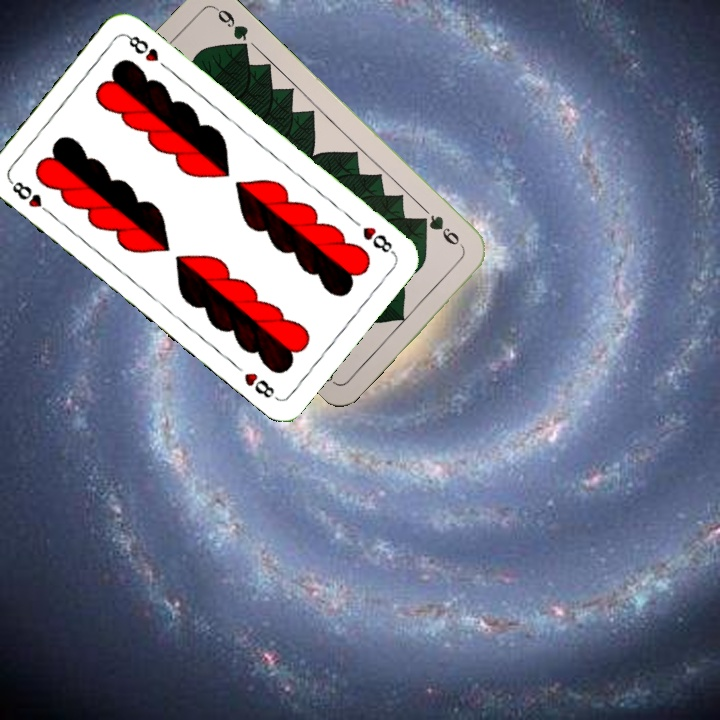G9: (415, 210, 466, 251)
H8: (5, 176, 55, 218), (358, 222, 398, 257)
